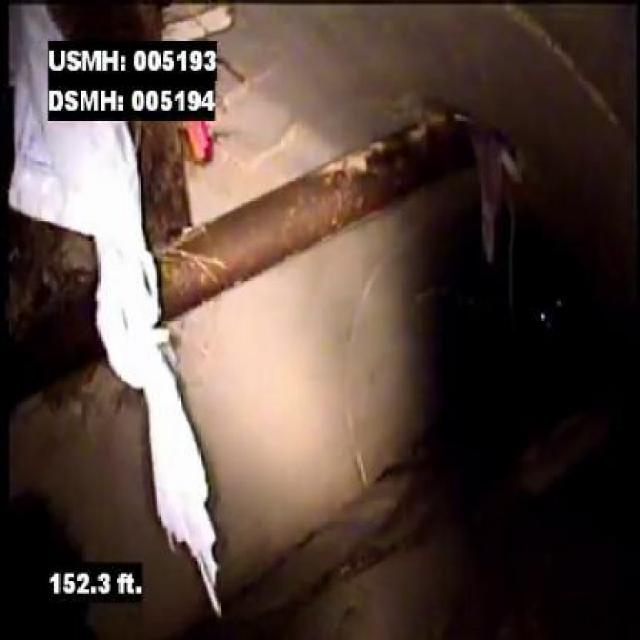Utility intrusion: (165, 126, 426, 314)
